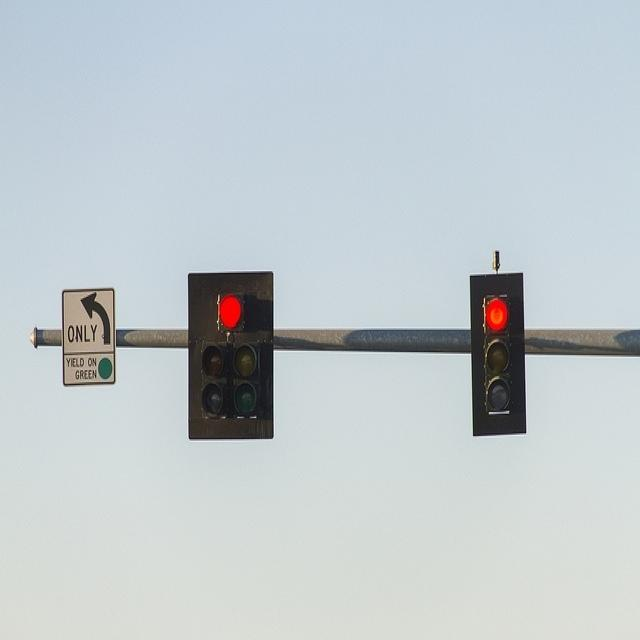E-waste: (188, 262, 278, 448), (464, 252, 537, 445)
